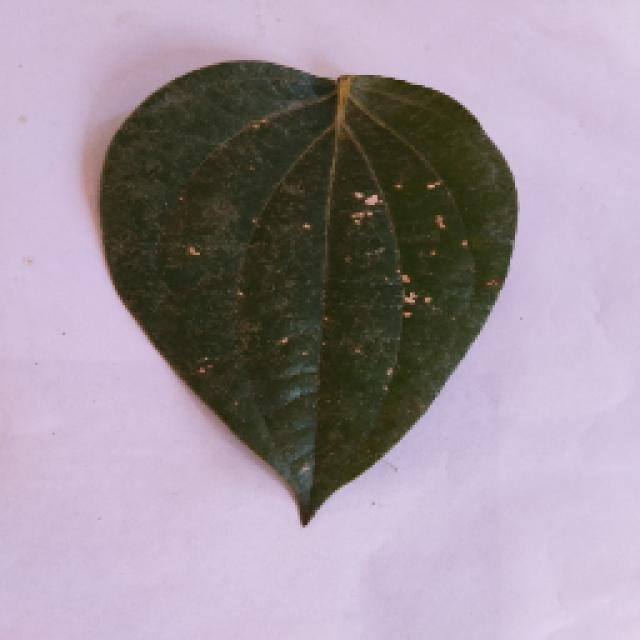pollu-disease: (80, 58, 525, 520)
